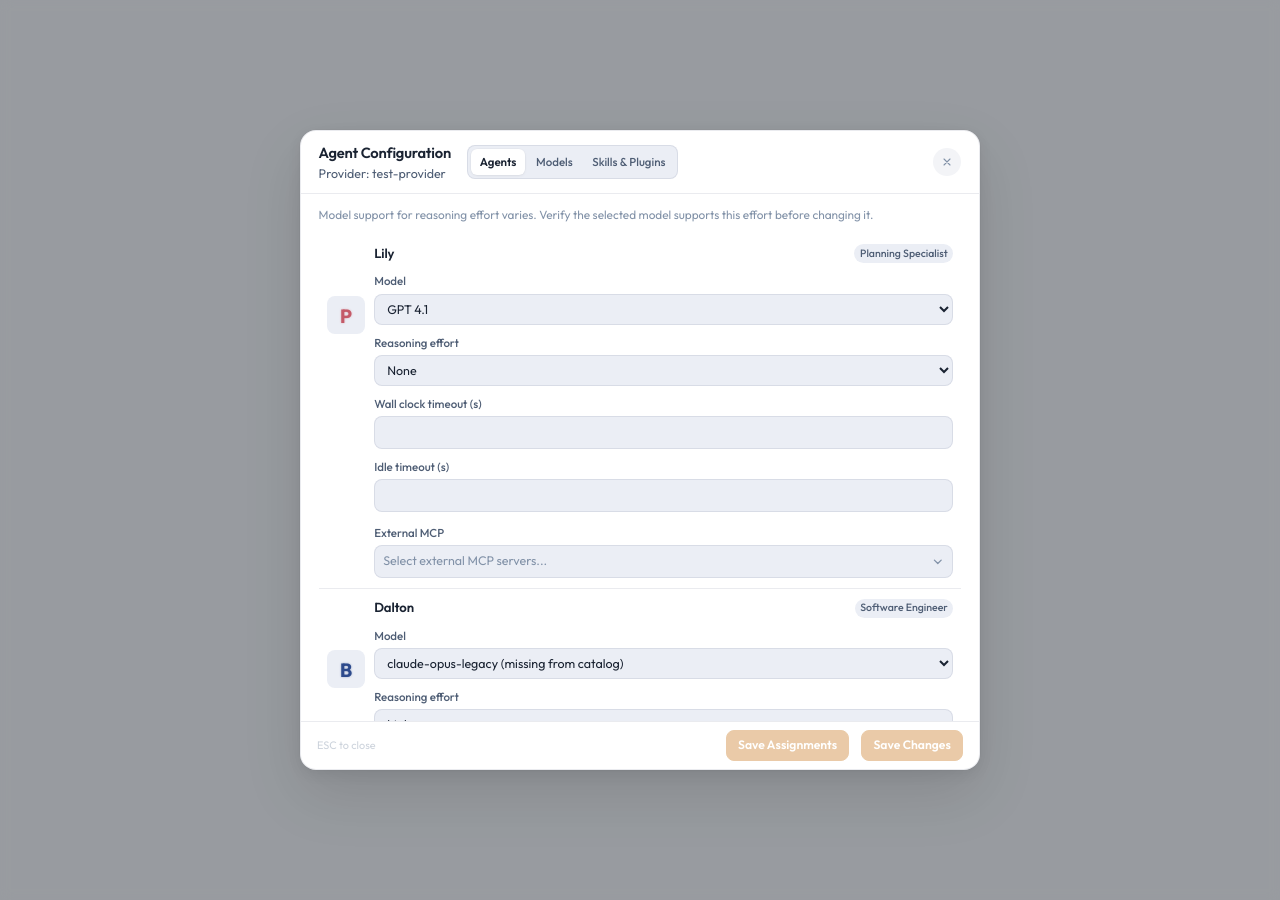
Test: AgentConfigModal › exposes the contract listbox and option aria labels (with transport trailing)
This screenshot has width=1280, height=900.
Step 1. Click the button with aria-label "Select external MCP servers for Lily" → (465, 561), box [374,545,953,578]
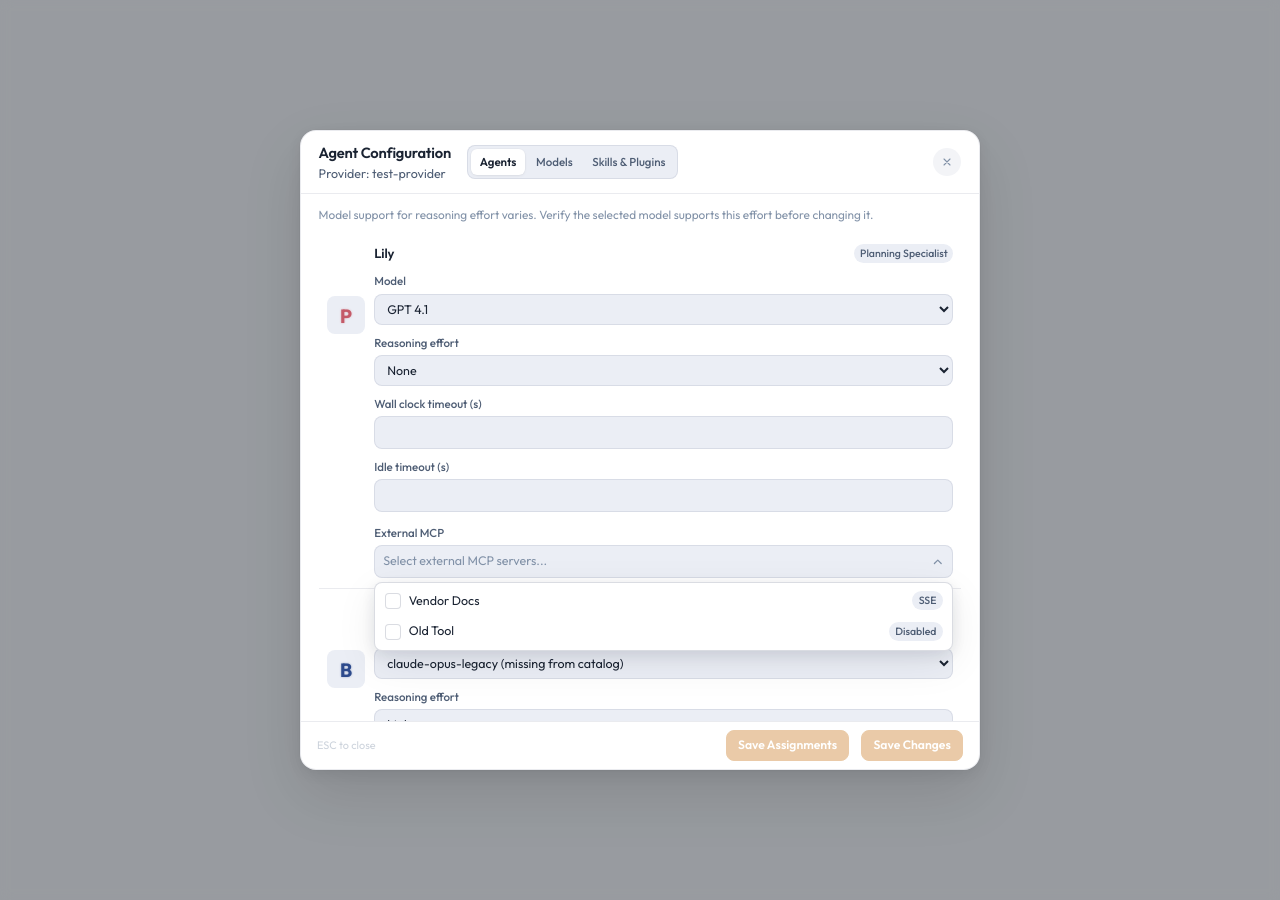
Expected: the list named "Lily external MCP assignments" is shown, [374,582,953,651]
Expected: the option with aria-label "Assign Vendor Docs (SSE) to Lily" is shown, [378,586,949,616]
Expected: the option with aria-label "Assign Old Tool (Disabled) to Lily" is shown, [378,617,949,646]
